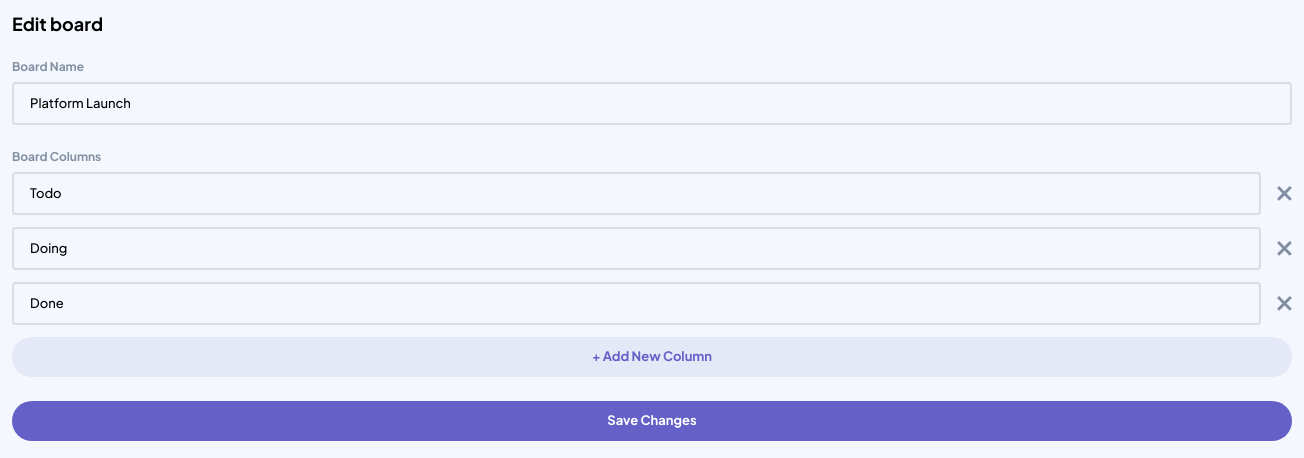
Test: Given an <EditBoardForm /> component › When we click the delete button of 'Todo' column › It should delete column input 'Todo'
The image size is (1304, 458).
Expected: the 1st field named "column" holds "Todo", [12, 172, 1261, 215]
Click the button named "Delete item: Todo": click(1284, 194) [1277, 172, 1292, 215]
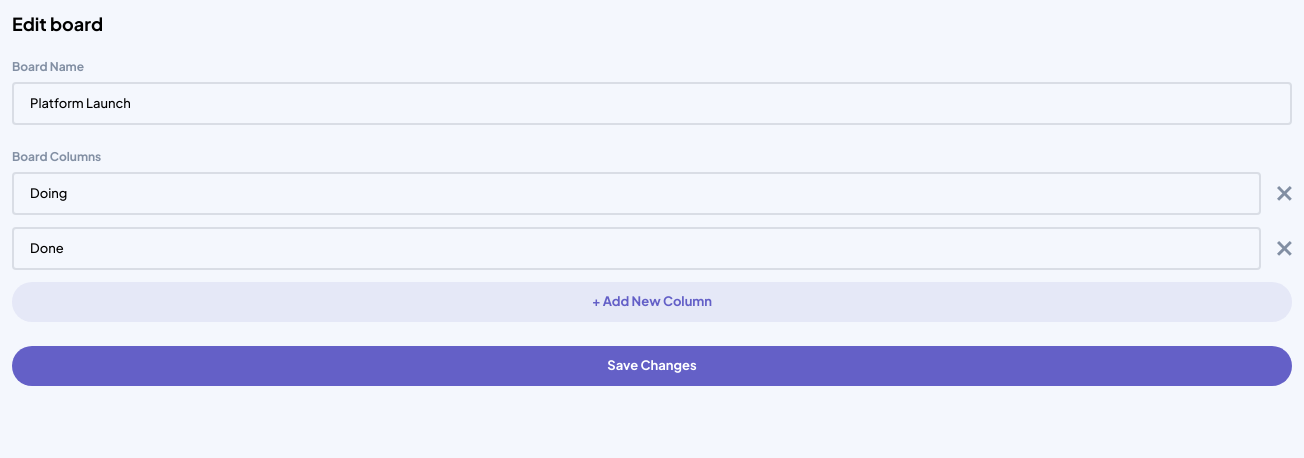
Expected: the 1st field named "column" does not hold "Sign up page", [12, 172, 1261, 215]
